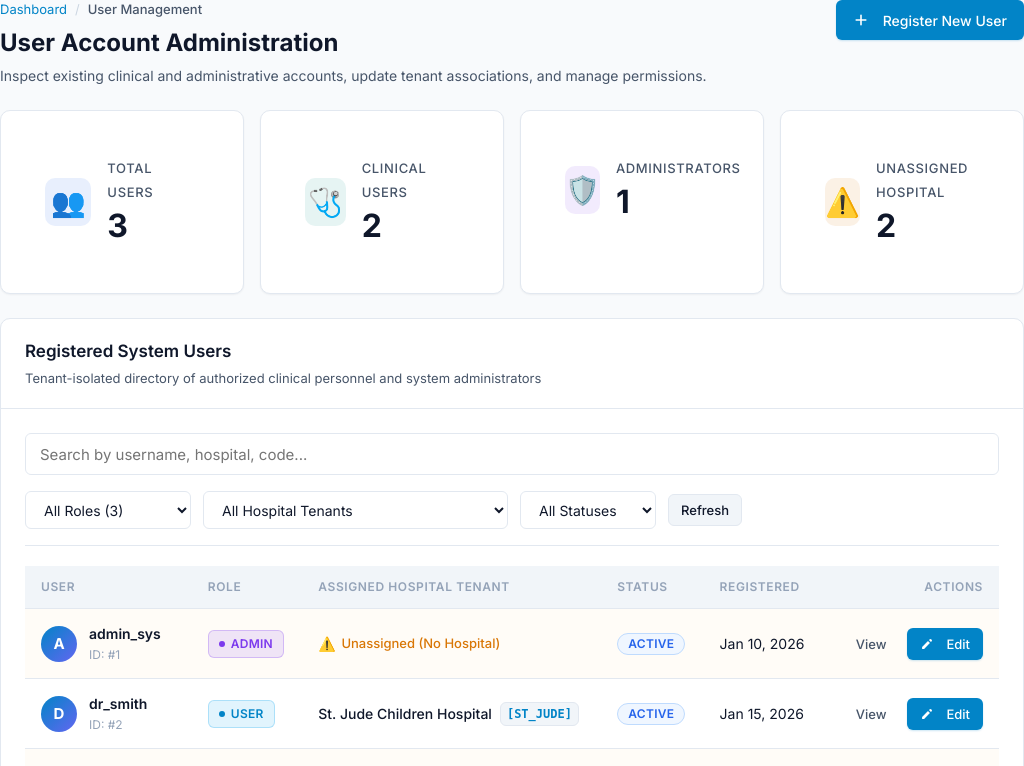
Test case: UserManagementPage › displays error message when updateUser API fails
Check: the text "dr_smith" is shown, box [89,694,147,714]
Click the button "Edit" in the row of "dr_smith" at (945, 714), box [907,698,983,730]
(page scrolled)
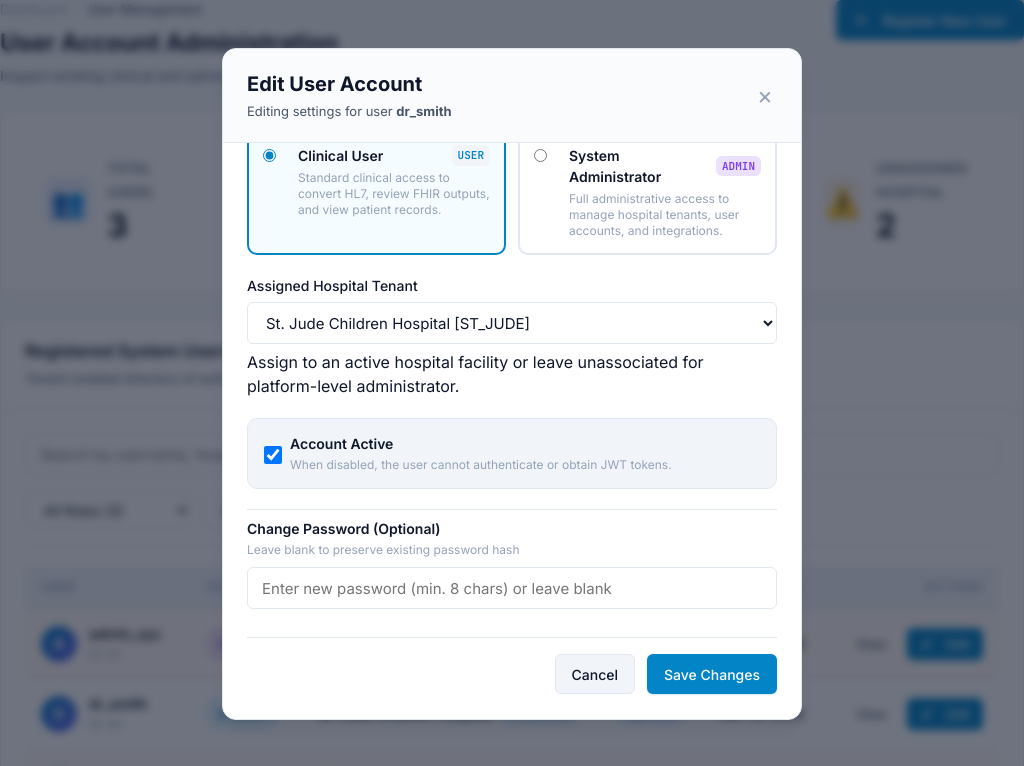
Check: the heading "Edit User Account" is shown, box [247,69,452,99]
Click the button "Save Changes" at (712, 674), box [647,654,777,694]
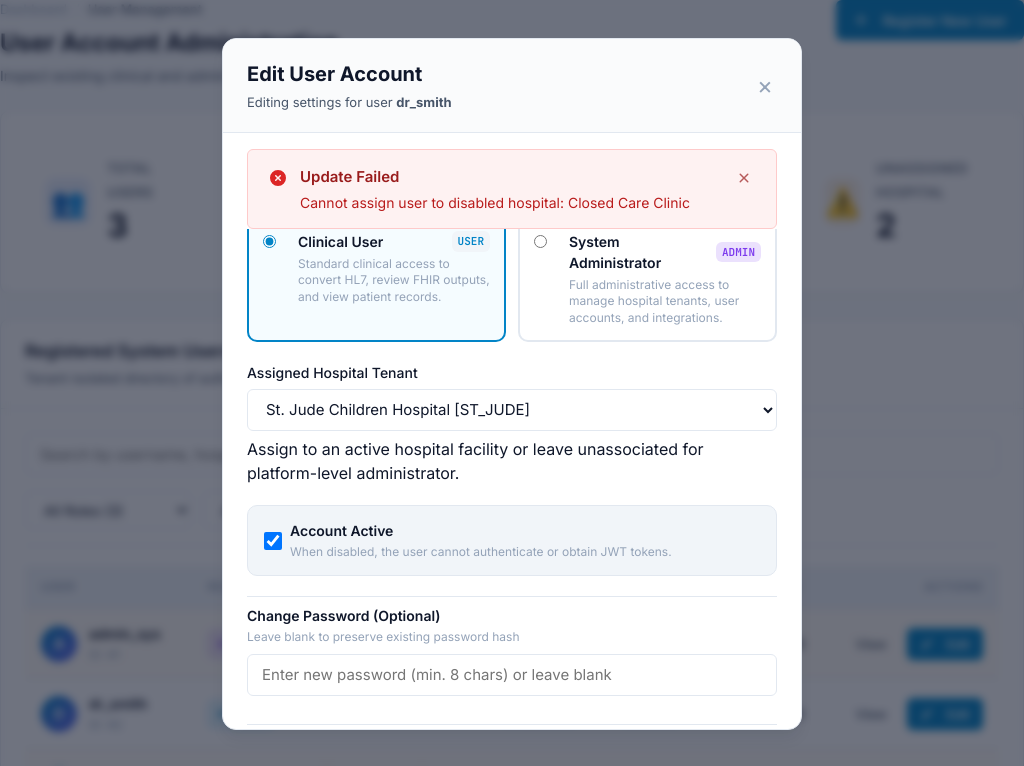
Check: the text "Cannot assign user to disabled hospital: Closed Care Clinic" is shown, box [300,193,720,212]
